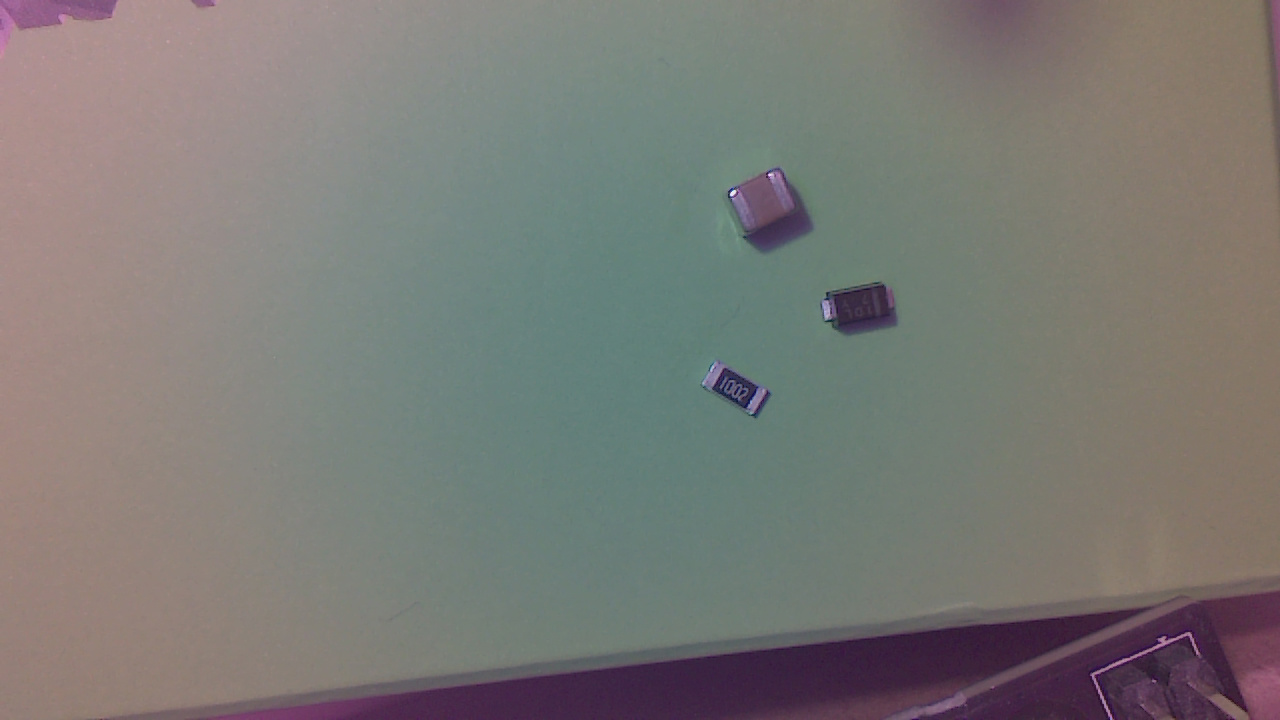Condensator: (731, 173, 803, 246)
Diode: (822, 286, 911, 334)
Resistor: (706, 364, 774, 420)
